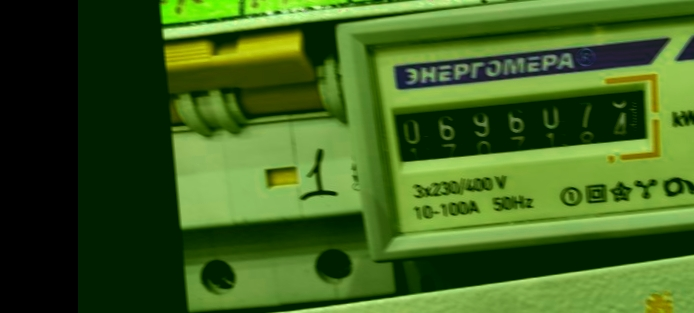0: (400, 111, 423, 143), (540, 96, 562, 127)
4: (608, 105, 630, 135)
6: (434, 107, 458, 139), (506, 101, 527, 130)
7: (575, 94, 595, 125)
9: (471, 105, 491, 135)
screen: (374, 62, 666, 178)
